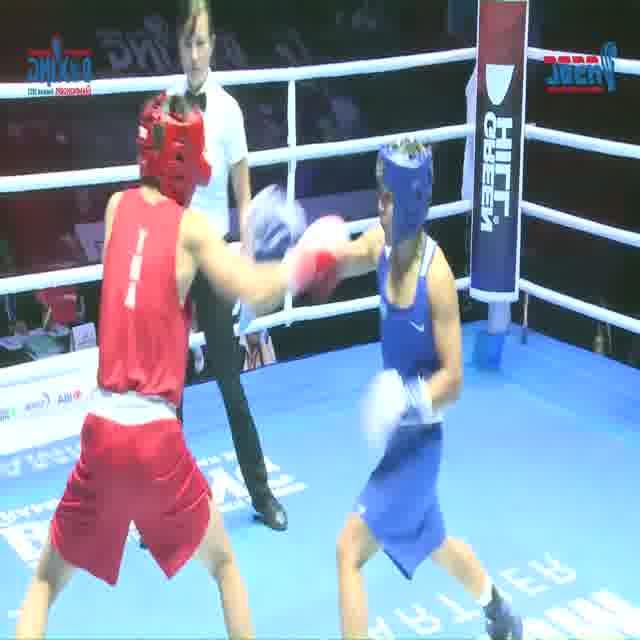blue-player: (243, 133, 525, 640)
red-player: (11, 87, 350, 640)
referee: (133, 0, 291, 553)
